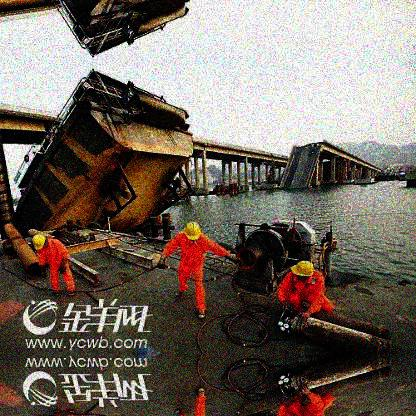helmet: (291, 260, 314, 282), (183, 222, 203, 244), (31, 233, 50, 250)
